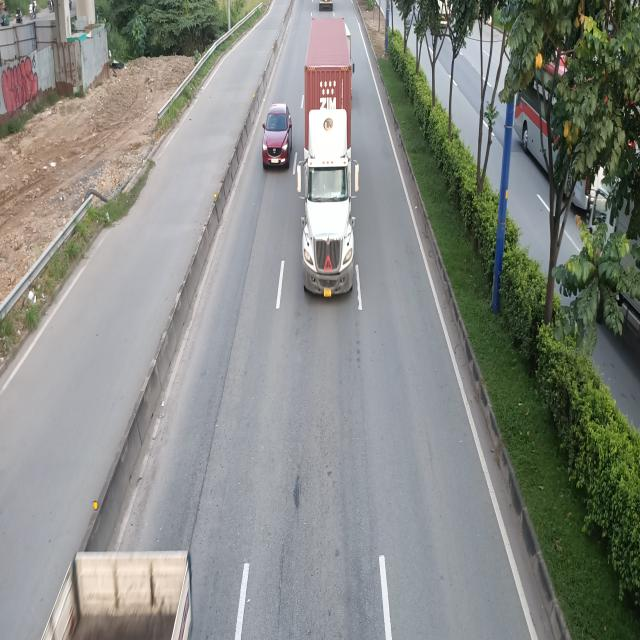car: (263, 103, 293, 171)
container: (294, 16, 356, 295)
